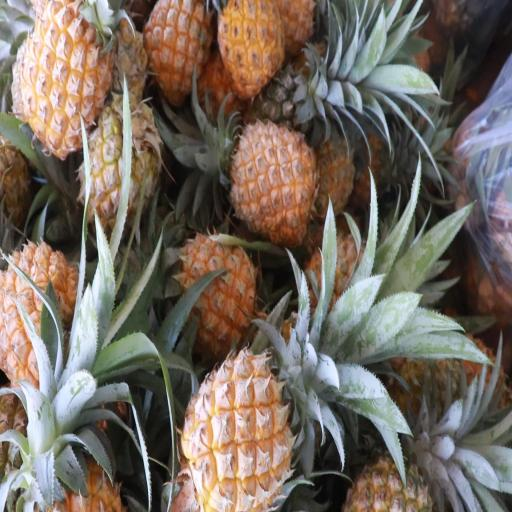------------------------------: (78, 95, 156, 232)
Pineapple - v8 v1: (180, 333, 294, 512), (1, 239, 85, 407), (16, 4, 108, 154), (228, 124, 314, 236), (176, 231, 258, 342), (140, 0, 209, 95), (216, 0, 285, 91)
